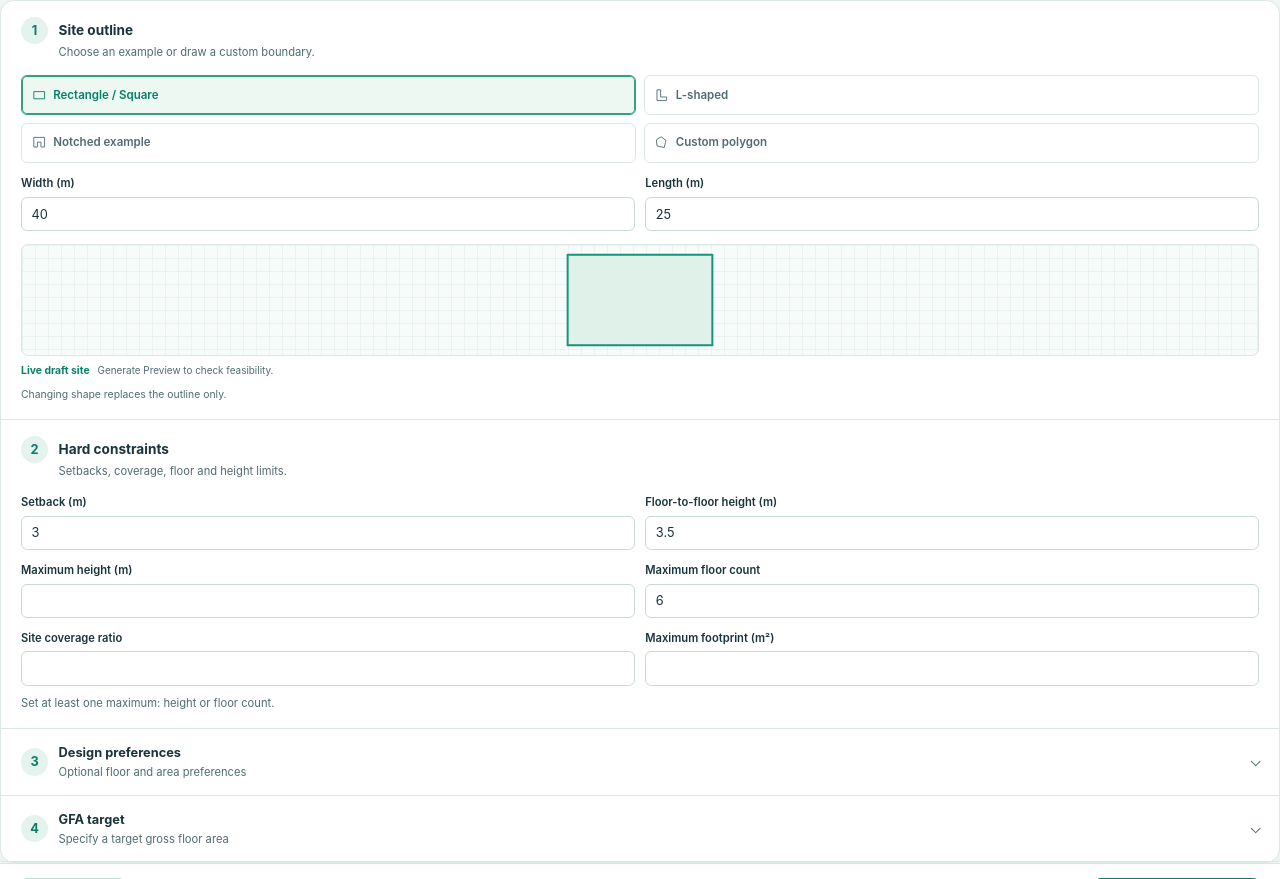
Test case: ConfigurationForm › removes the live outline immediately for invalid Length (m)=0
Expected: the picture named "Draft site preview" is shown, 21,244 -> 1259,356
Replace the text in the field labelled "Length (m)" with "0": (952, 214) 645,197 -> 1259,231
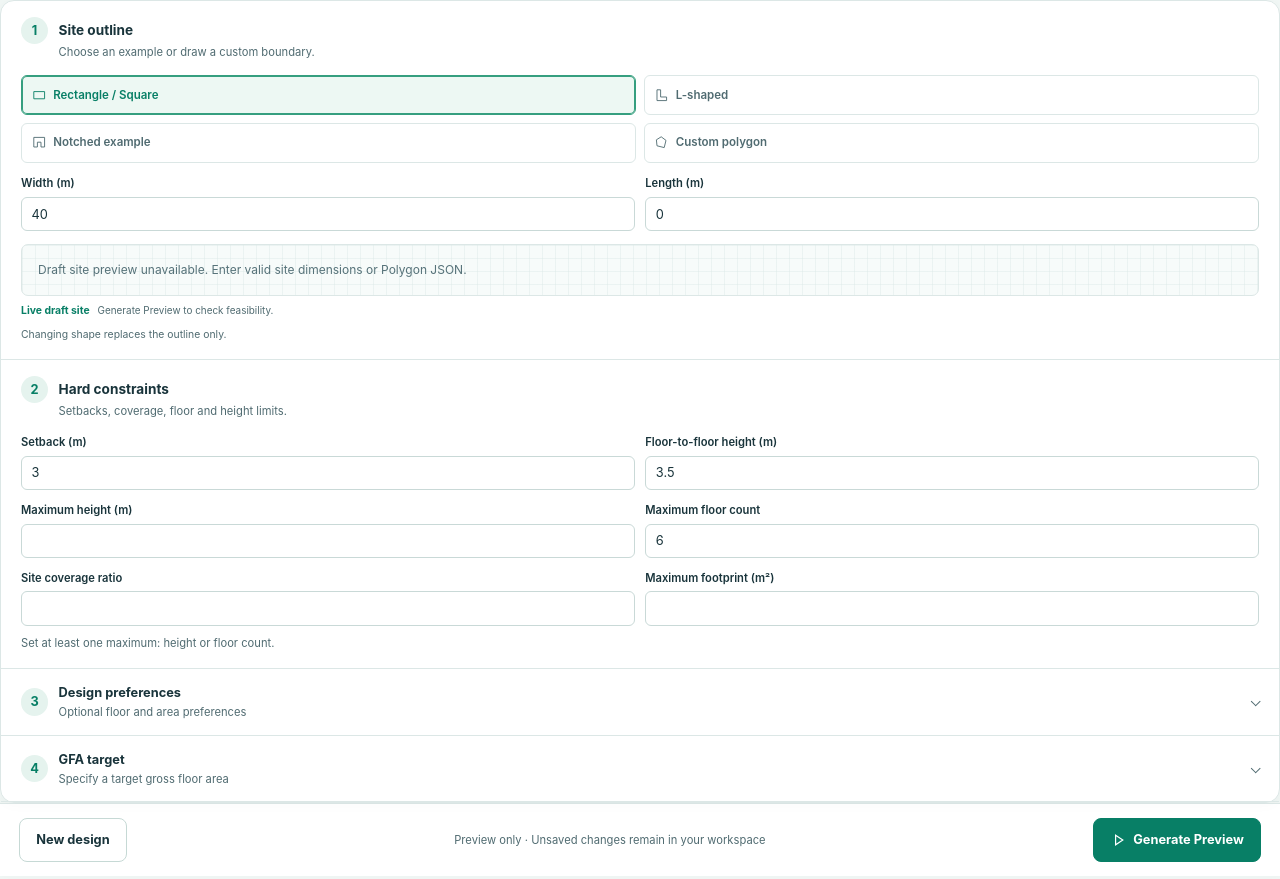
Result: the text "Draft site preview unavailable. Enter valid site dimensions or Polygon JSON." is shown at 21,244 -> 1259,296
